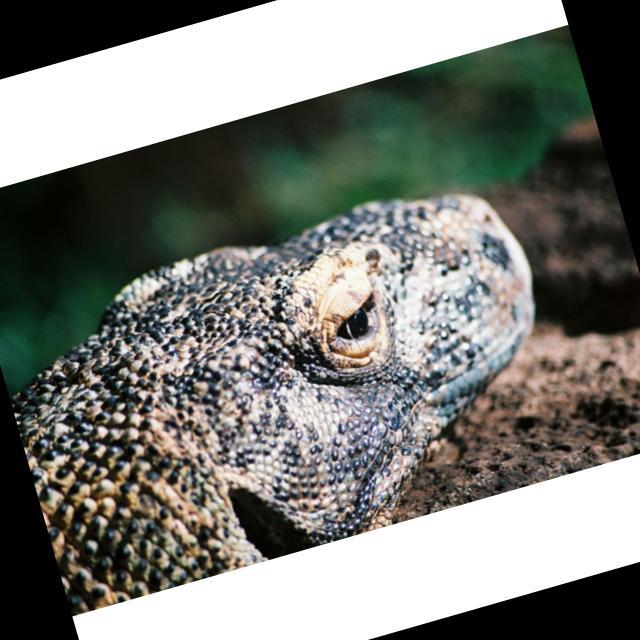KomodoDragon: (0, 155, 591, 612)
